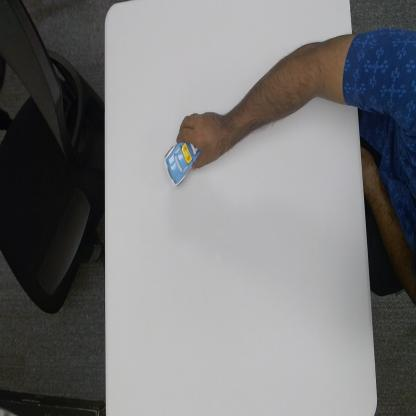Arm: (224, 32, 354, 149)
Car: (164, 141, 200, 187)
Hand: (176, 111, 227, 171)
